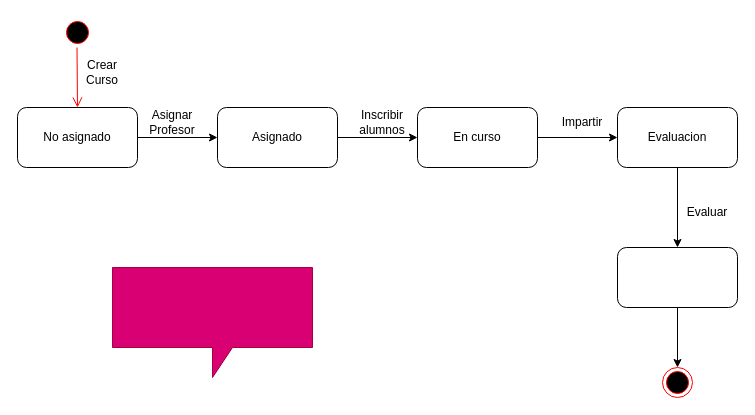
Image size: 755x415. Some labels were removed from this diagram. Each missing label, with the centre of its shape:
"Diagrama de Estados (Gestión Escolar)" goes at point (212, 322).
"Finalizado" goes at point (677, 277).
